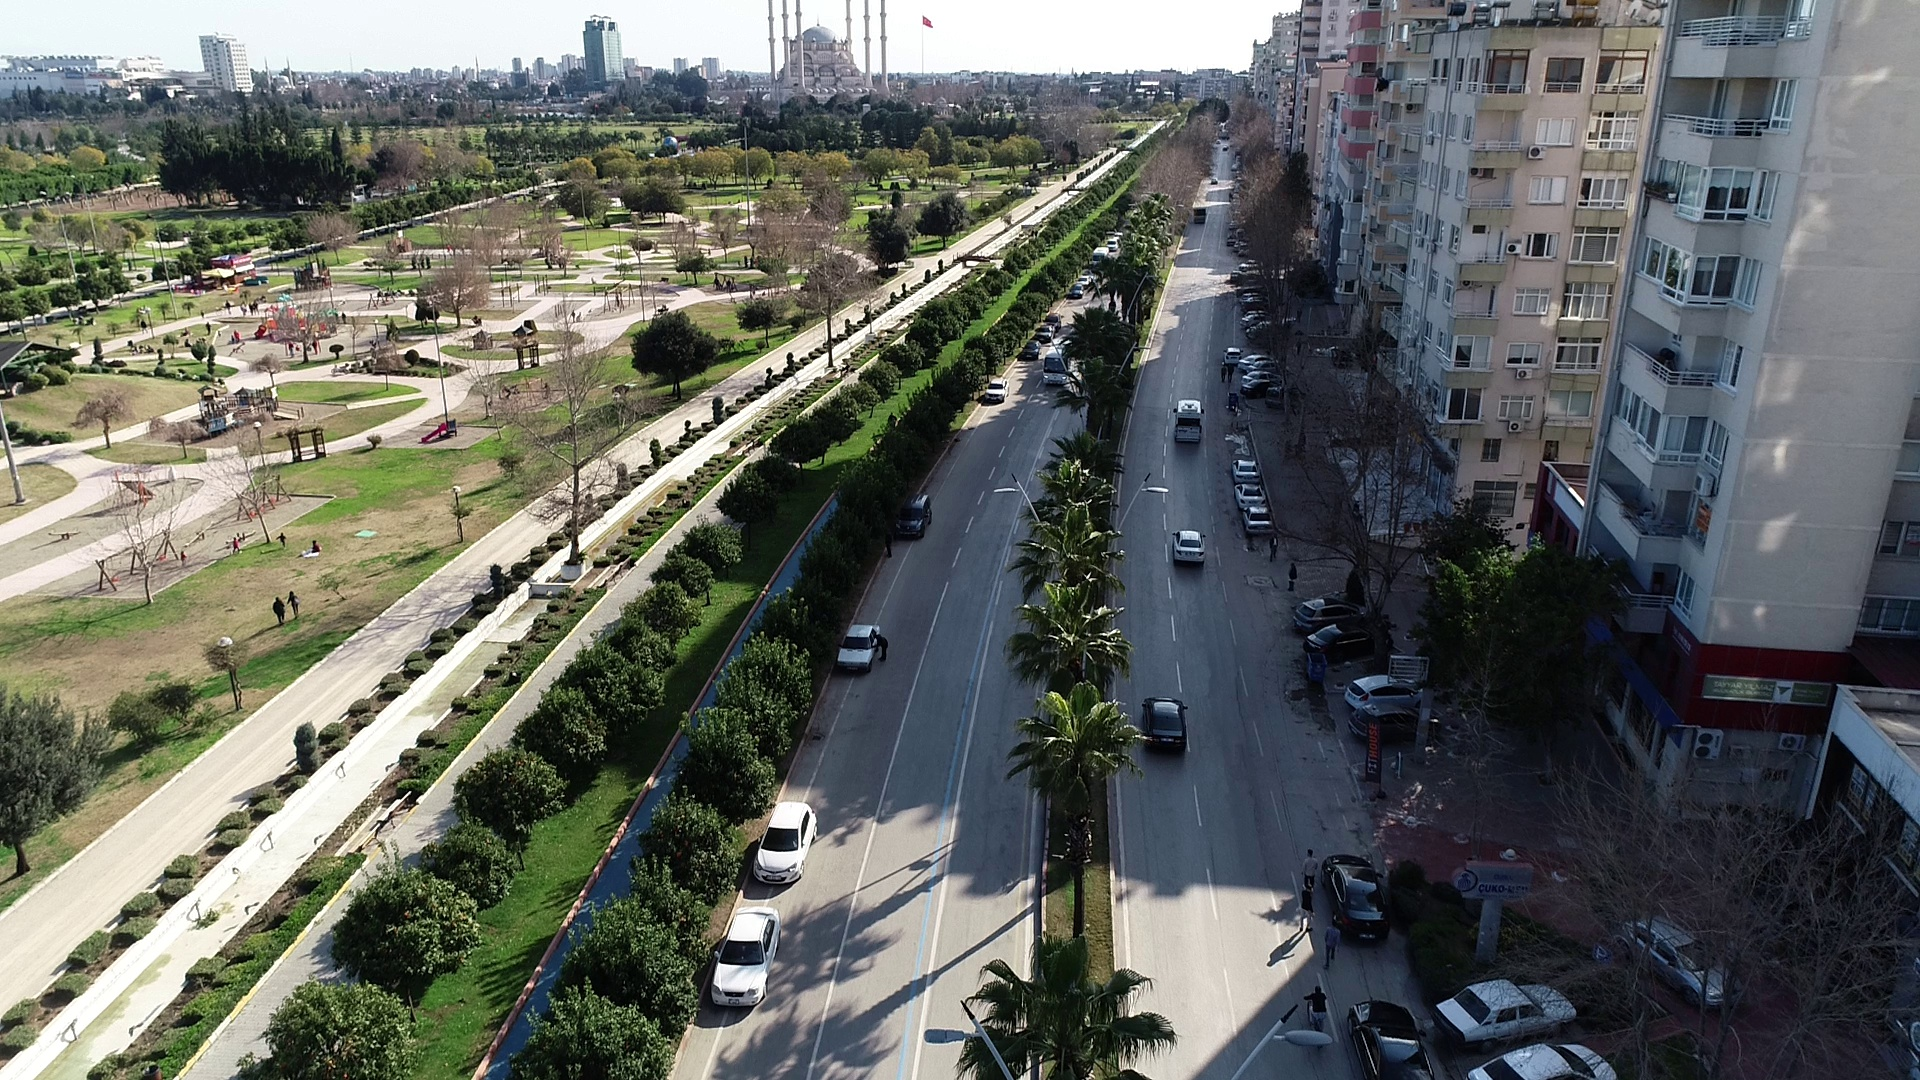bus: (1169, 398, 1206, 448), (1042, 343, 1075, 394), (1191, 205, 1210, 229)
car: (1611, 906, 1756, 1010), (1429, 970, 1588, 1046), (709, 900, 785, 1016), (1320, 841, 1401, 949), (752, 794, 819, 888), (1139, 691, 1197, 774), (1350, 702, 1445, 741), (834, 617, 882, 682), (1168, 524, 1212, 581), (1243, 505, 1278, 547), (1228, 482, 1272, 509), (1228, 456, 1266, 486), (981, 377, 1013, 407), (1219, 342, 1245, 368), (1020, 338, 1043, 363), (1068, 284, 1088, 302)
person: (1315, 914, 1344, 971), (1294, 885, 1315, 936), (1299, 845, 1322, 890), (1283, 557, 1306, 597), (1266, 530, 1282, 568), (1215, 362, 1226, 388), (1225, 360, 1236, 385)
